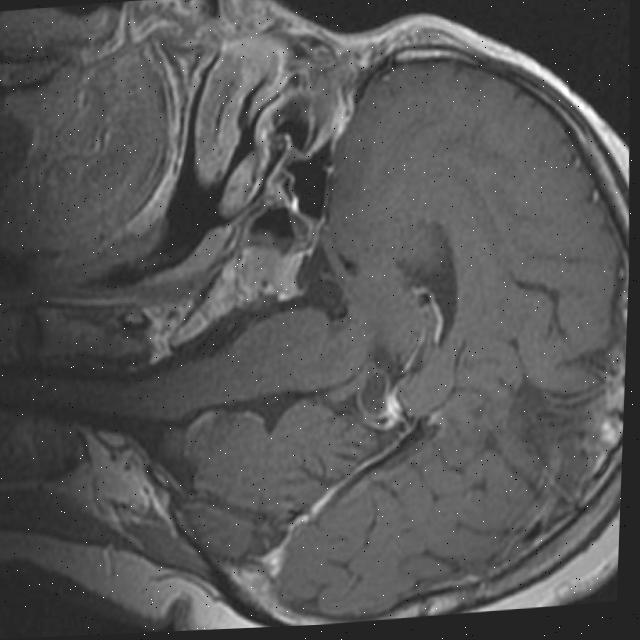Pituitary: (219, 241, 316, 306)
